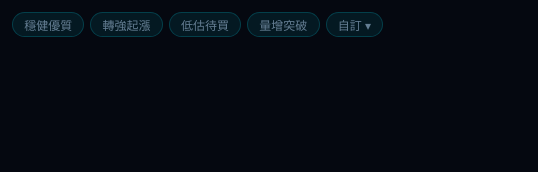
Test: FilterBar › clicking a preset activates it and shows 符合 N / total
This screenshot has width=538, height=172.
What coordinates should you click on to do the following:
click the button "穩健優質"
I would click on:
 (48, 25)
Its box is [12,12,84,37].
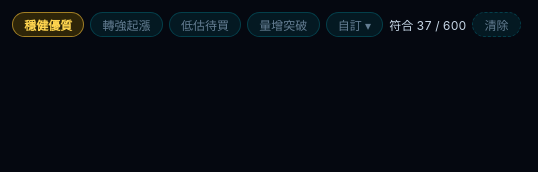
Now the text with class "filter-count" reads "符合 37 / 600", box [389,18,466,33]
